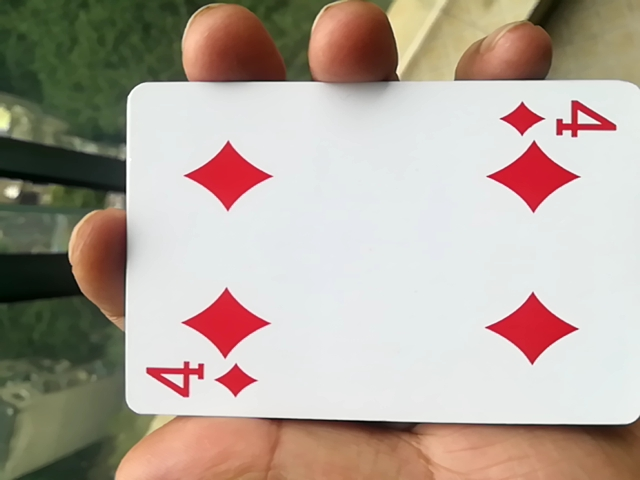fk 4: (106, 95, 637, 439)
